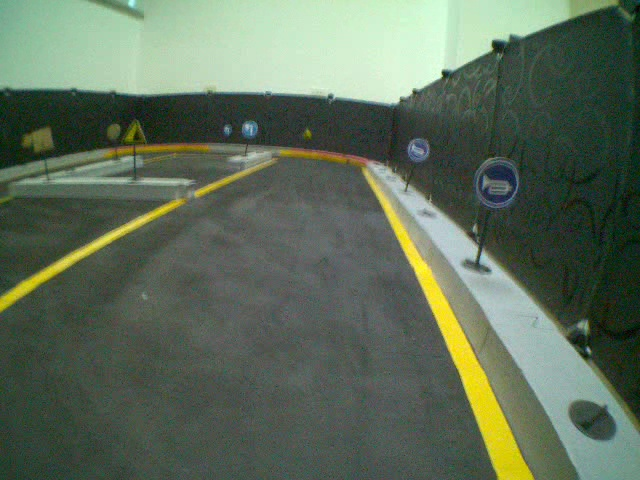fast: (122, 117, 148, 143)
horn: (471, 155, 523, 209), (407, 135, 432, 162)
turn: (240, 118, 258, 137)
